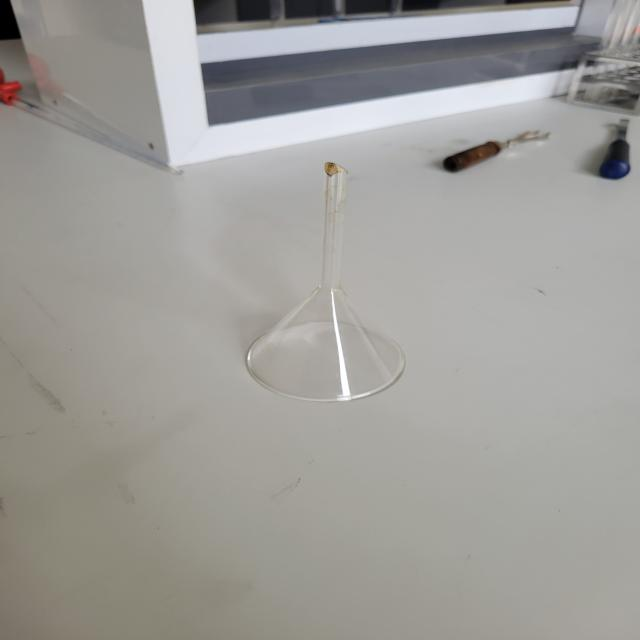Funnel: (227, 132, 428, 422)
